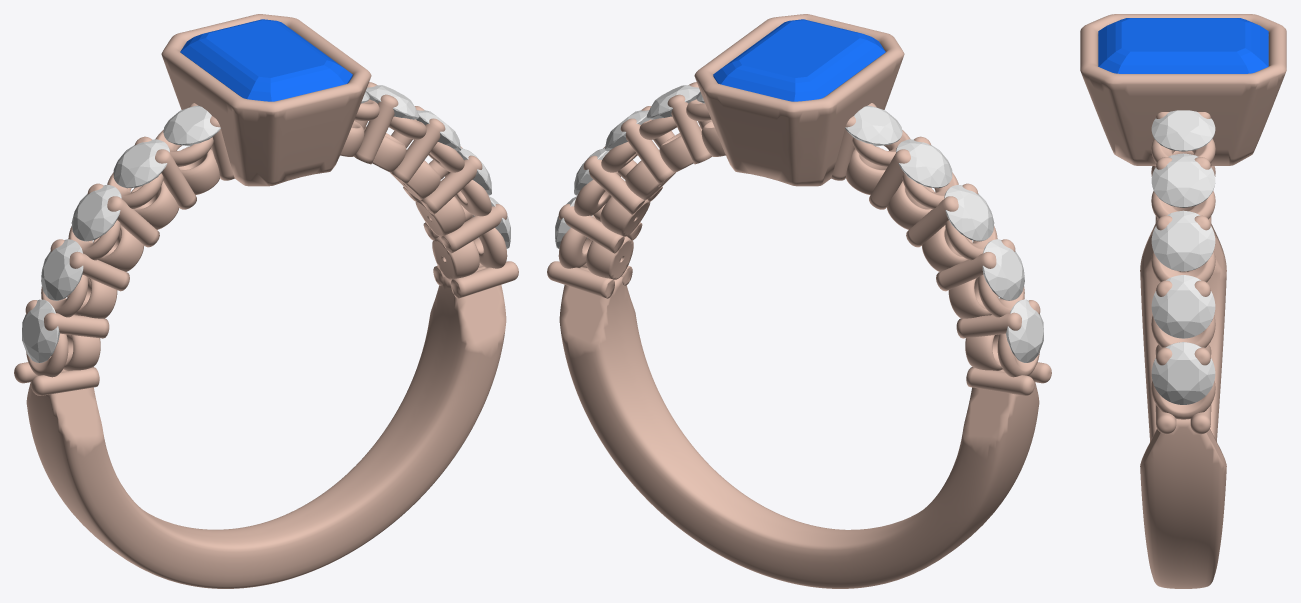
File: bluesapphire-emerald-rosegold-bezelset-straighttaperedband-11stone.glb
3 views of the same model, side by side, from view 1: azimuth 30°, elevation 25°; view 2: azimuth 150°, elevation 25°; view 3: azimuth 270°, elevation 25° (orthographic).
Parts seen in each view (by area): view 1: metal.002, stone, side.004, side.005, side.003, side, side.006, side.010; view 2: metal.002, stone, side.004, side.005, side.003, side, side.006, side.010; view 3: metal.002, stone, side.008, side.007, side.009, side.010, side.011.
Part boxes in pixels (x1=…): metal.002: x1=14, y1=14, x2=518, y2=588; stone: x1=180, y1=19, x2=352, y2=101; side.004: x1=71, y1=184, x2=121, y2=241; side.005: x1=113, y1=139, x2=169, y2=188; side.003: x1=41, y1=239, x2=83, y2=300; side: x1=22, y1=299, x2=59, y2=362; side.006: x1=163, y1=105, x2=220, y2=146; side.010: x1=365, y1=85, x2=419, y2=119; metal.002: x1=547, y1=14, x2=1051, y2=588; stone: x1=713, y1=19, x2=885, y2=101; side.004: x1=944, y1=184, x2=994, y2=241; side.005: x1=896, y1=139, x2=952, y2=188; side.003: x1=982, y1=239, x2=1024, y2=300; side: x1=1006, y1=299, x2=1043, y2=362; side.006: x1=845, y1=105, x2=902, y2=146; side.010: x1=646, y1=85, x2=700, y2=119; metal.002: x1=1080, y1=14, x2=1286, y2=588; stone: x1=1098, y1=18, x2=1268, y2=73; side.008: x1=1151, y1=275, x2=1215, y2=338; side.007: x1=1151, y1=342, x2=1215, y2=404; side.009: x1=1151, y1=210, x2=1215, y2=271; side.010: x1=1151, y1=153, x2=1215, y2=207; side.011: x1=1151, y1=110, x2=1215, y2=151.
Size of the model in its own units: 22 by 22.95 by 8.11.
